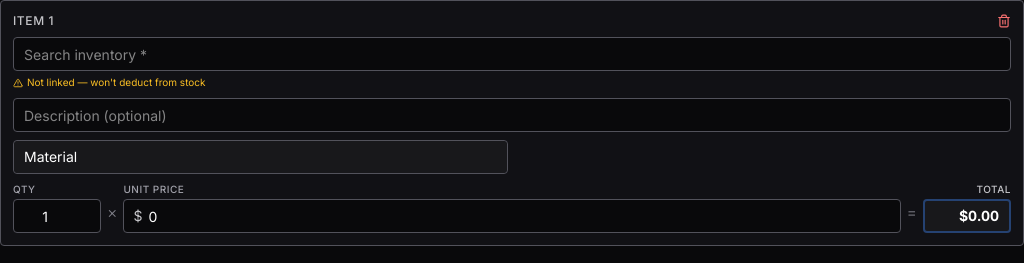
Scenario: LineItemCard — quick add › typing an unmatched name offers "Add "<name>" to inventory"
Step 1. Type "Brand New Gasket" into the field with placeholder "Search inventory *" → (512, 54), box [13, 37, 1011, 71]
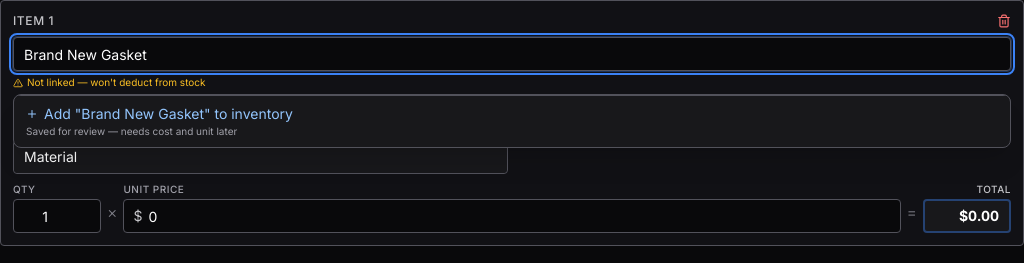
Expected: the text "Add \"Brand New Gasket\" to inventory" is shown, [44, 104, 293, 124]
